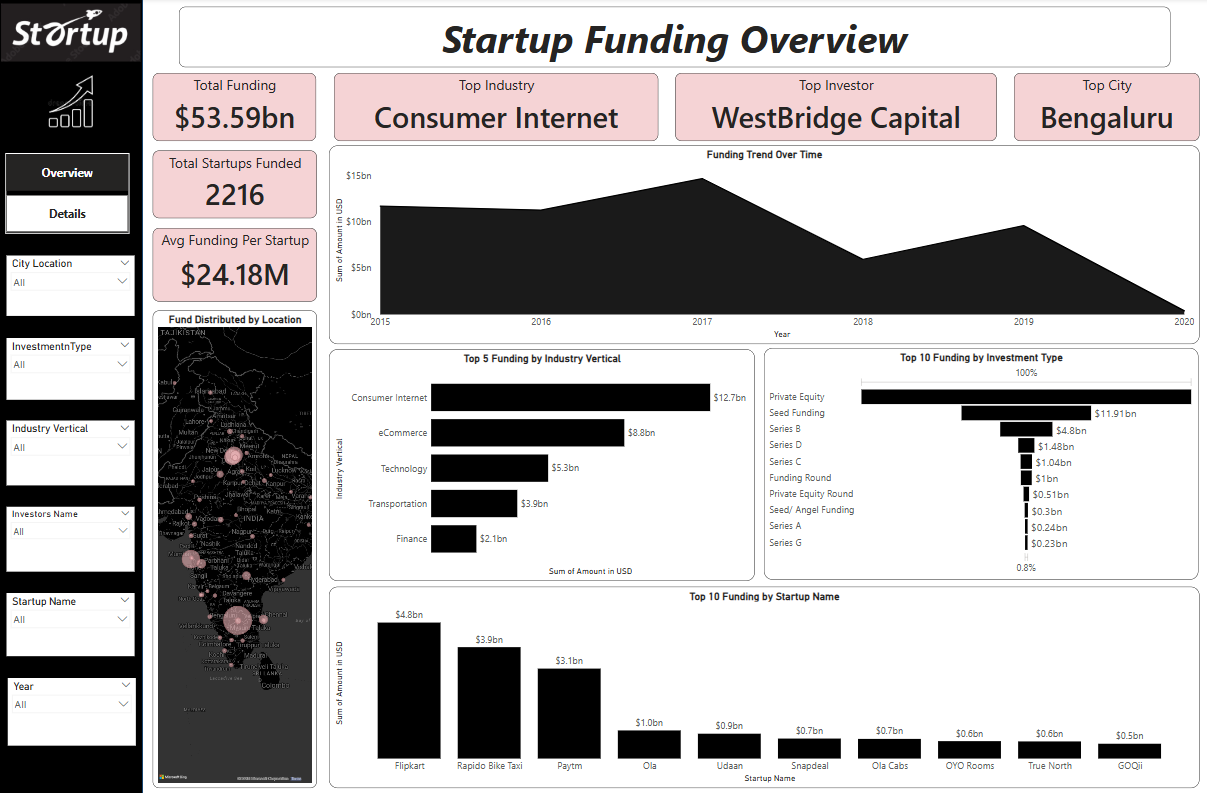

What the dashboard file says about the page in this screenshot:
{"tool":"powerbi","page":{"name":"Overview","canvas":[2800,1850],"ordinal":0},"visuals":[{"type":"shape","box":[0,0,333.3,1850],"z":0},{"type":"card","title":"Avg Funding Per Startup","fields":{"Values":["startup_funding.Avg Funding Per Startup"]},"box":[356.7,531.6,380,170],"z":1000},{"type":"card","title":"Top Industry","fields":{"Values":["startup_funding.Top Industry"]},"box":[776.4,172.4,751.1,157.8],"z":2000},{"type":"card","title":"Top City","fields":{"Values":["startup_funding.Top City"]},"box":[2351.3,172.4,429.2,157.8],"z":3000},{"type":"card","title":"Top Investor","fields":{"Values":["startup_funding.Top Investor"]},"box":[1565.4,172.4,744.8,157.8],"z":4000},{"type":"card","title":"Total Startups Funded","fields":{"Values":["startup_funding.Total Startups Funded"]},"box":[356.7,352.6,380,156.7],"z":5000},{"type":"card","title":"Total Funding","fields":{"Values":["startup_funding.Total Funding"]},"box":[356.6,172.4,378.7,157.8],"z":6000},{"type":"areaChart","title":"Funding Trend Over Time","fields":{"Category":["startup_funding.Date dd/mm/yyyy.Variation.Date Hierarchy.Year","startup_funding.Date dd/mm/yyyy.Variation.Date Hierarchy.Quarter","startup_funding.Date dd/mm/yyyy.Variation.Date Hierarchy.Month","startup_funding.Date dd/mm/yyyy.Variation.Date Hierarchy.Day"],"Y":["Sum(startup_funding.Amount in USD)"]},"box":[763.3,342.6,2016.7,460],"z":7000},{"type":"columnChart","title":"Top 10 Funding by Startup Name","fields":{"Category":["startup_funding.Startup Name"],"Y":["Sum(startup_funding.Amount in USD)"]},"box":[763.3,1364,2016.7,466.7],"z":8000},{"type":"map","title":"Fund Distributed by Location","fields":{"Category":["startup_funding.City Location"],"Size":["Sum(startup_funding.Amount in USD)"]},"box":[356.7,724,380,1106.7],"z":9000},{"type":"funnel","title":"Top 10 Funding by Investment Type","fields":{"Category":["startup_funding.InvestmentnType"],"Y":["Sum(startup_funding.Amount in USD)"]},"box":[1773.3,810.7,1006.7,536.7],"z":10000},{"type":"barChart","title":"Top 5 Funding by Industry Vertical","fields":{"Category":["startup_funding.Industry Vertical"],"Y":["Sum(startup_funding.Amount in USD)"]},"box":[763.3,815,986.7,536.7],"z":11000},{"type":"pageNavigator","box":[15.8,358.7,288,187.5],"z":12000},{"type":"slicer","fields":{"Values":["startup_funding.City Location"]},"box":[16.7,596.3,296.7,140],"z":13000},{"type":"slicer","fields":{"Values":["startup_funding.InvestmentnType"]},"box":[16.7,786.4,296.7,143.3],"z":14000},{"type":"slicer","fields":{"Values":["startup_funding.Industry Vertical"]},"box":[16.7,979.8,296.7,150],"z":15000},{"type":"slicer","fields":{"Values":["startup_funding.Investors Name"]},"box":[16.7,1179.8,296.7,150],"z":16000},{"type":"slicer","fields":{"Values":["startup_funding.Startup Name"]},"box":[16.7,1379.9,296.7,146.7],"z":17000},{"type":"slicer","fields":{"Values":["startup_funding.Year"]},"box":[20,1576.7,296.7,156.7],"z":18000},{"type":"image","box":[0,0,333.3,160],"z":19000},{"type":"image","box":[16.7,160,300,170],"z":20000},{"type":"textbox","box":[416.7,20,2296.7,140],"z":21000}]}

Visuals, with their boxes in screenshot pixels (x1, y1, x2, y2), scaled from the page's 2800x1850 canvas onto the 1207x793 screenshot:
shape: bbox(0, 0, 144, 792)
"Avg Funding Per Startup" card: bbox(154, 228, 318, 301)
"Top Industry" card: bbox(335, 74, 658, 142)
"Top City" card: bbox(1014, 74, 1199, 142)
"Top Investor" card: bbox(675, 74, 996, 142)
"Total Startups Funded" card: bbox(154, 151, 318, 218)
"Total Funding" card: bbox(154, 74, 317, 142)
"Funding Trend Over Time" areaChart: bbox(329, 147, 1198, 344)
"Top 10 Funding by Startup Name" columnChart: bbox(329, 585, 1198, 785)
"Fund Distributed by Location" map: bbox(154, 310, 318, 785)
"Top 10 Funding by Investment Type" funnel: bbox(764, 348, 1198, 578)
"Top 5 Funding by Industry Vertical" barChart: bbox(329, 349, 754, 579)
pageNavigator: bbox(7, 154, 131, 234)
slicer - startup_funding.City Location: bbox(7, 256, 135, 316)
slicer - startup_funding.InvestmentnType: bbox(7, 337, 135, 399)
slicer - startup_funding.Industry Vertical: bbox(7, 420, 135, 484)
slicer - startup_funding.Investors Name: bbox(7, 506, 135, 570)
slicer - startup_funding.Startup Name: bbox(7, 591, 135, 654)
slicer - startup_funding.Year: bbox(9, 676, 137, 743)
image: bbox(0, 0, 144, 69)
image: bbox(7, 69, 137, 141)
textbox: bbox(180, 9, 1170, 69)
